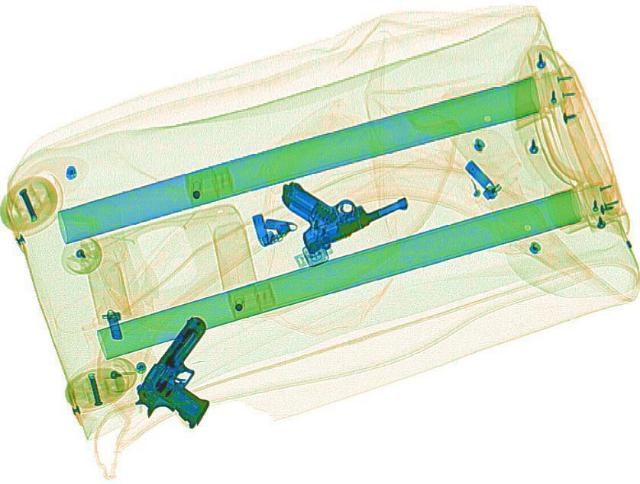Gun: (252, 148, 413, 254), (120, 313, 258, 430)
